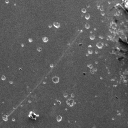corrosion: (27, 111, 40, 120), (87, 63, 97, 74), (66, 98, 77, 107), (51, 75, 60, 84), (52, 21, 60, 30), (55, 113, 63, 122), (89, 33, 96, 41), (2, 114, 9, 122), (84, 22, 91, 30), (96, 42, 104, 49), (42, 36, 49, 43), (110, 28, 117, 34), (81, 7, 87, 13), (85, 13, 91, 19), (1, 75, 7, 81), (87, 49, 93, 55), (36, 46, 42, 52), (49, 62, 54, 68), (100, 12, 106, 17), (28, 37, 33, 42)
